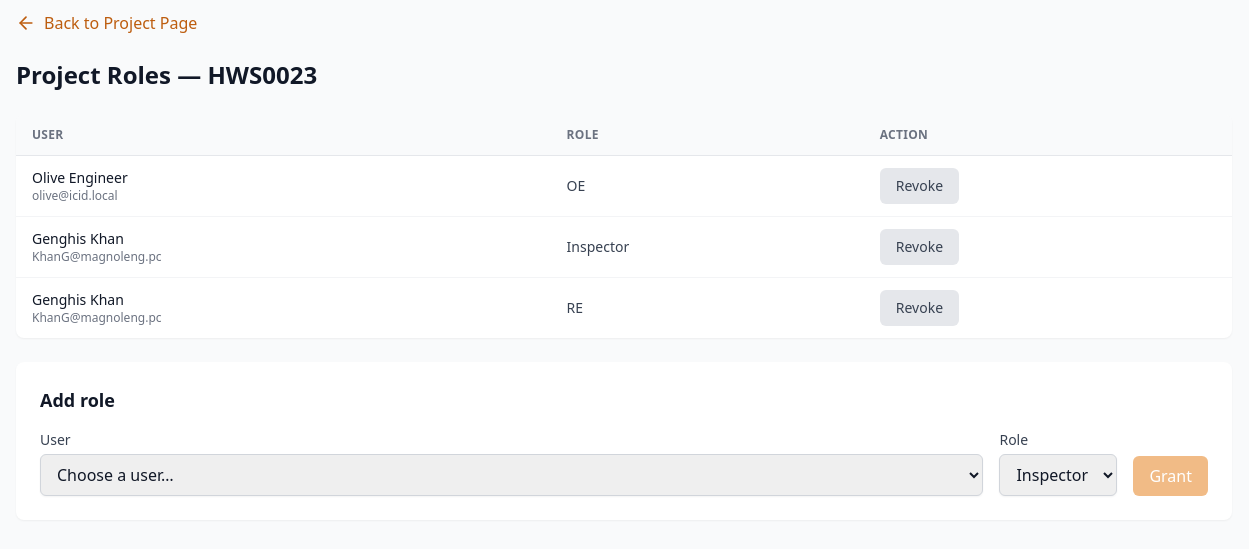
ProjectRolesPage — Add role › treats a role already held as a success that changes nothing
Select "Olive Engineer (olive@icid.local)" in the dropdown labelled "User": (512, 475) [40, 454, 983, 496]
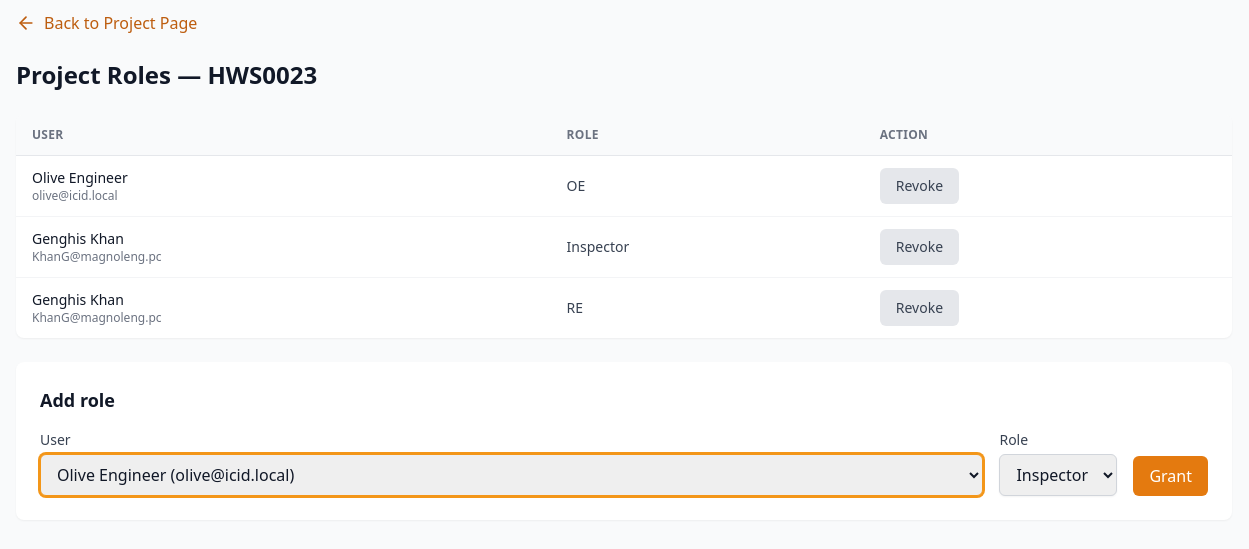
Select "OE" in the dropdown labelled "Role": (1058, 475) [999, 454, 1117, 496]
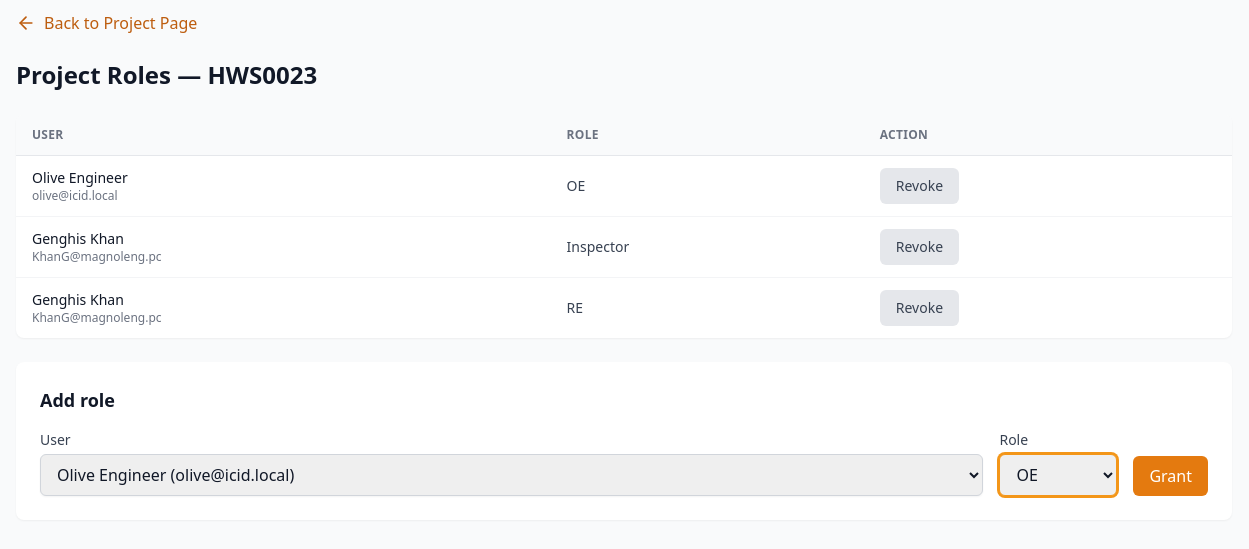
Click the button "Grant": (1171, 476) [1133, 456, 1208, 496]
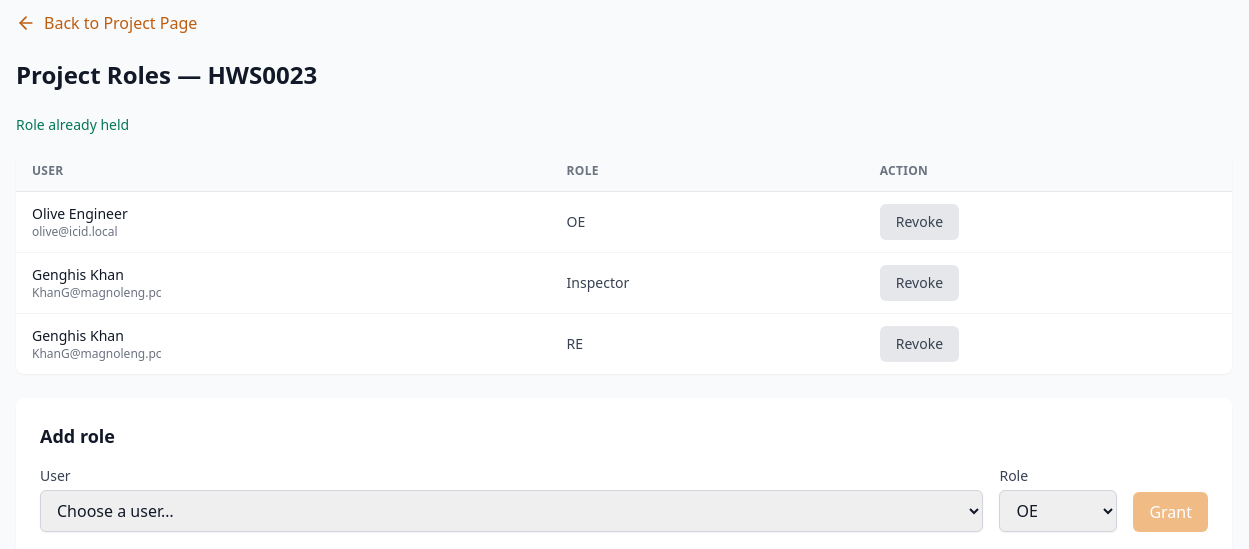
Expected: the text "Role already held" is shown, [16, 115, 129, 134]
